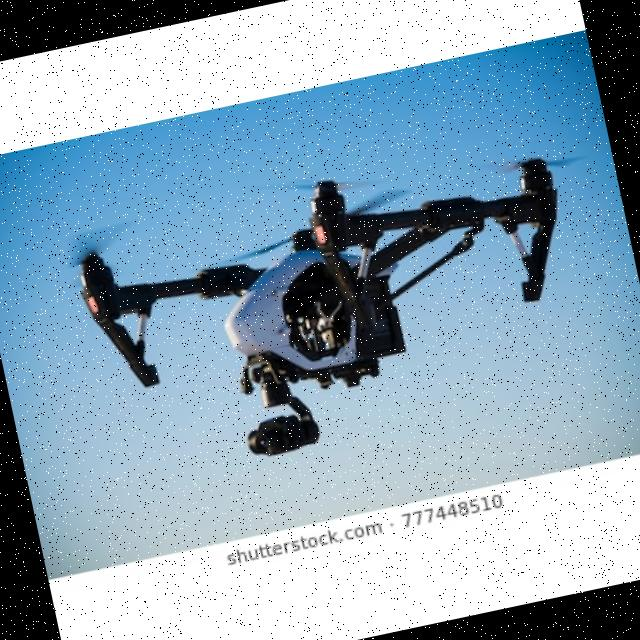Drones: (56, 147, 584, 436)
